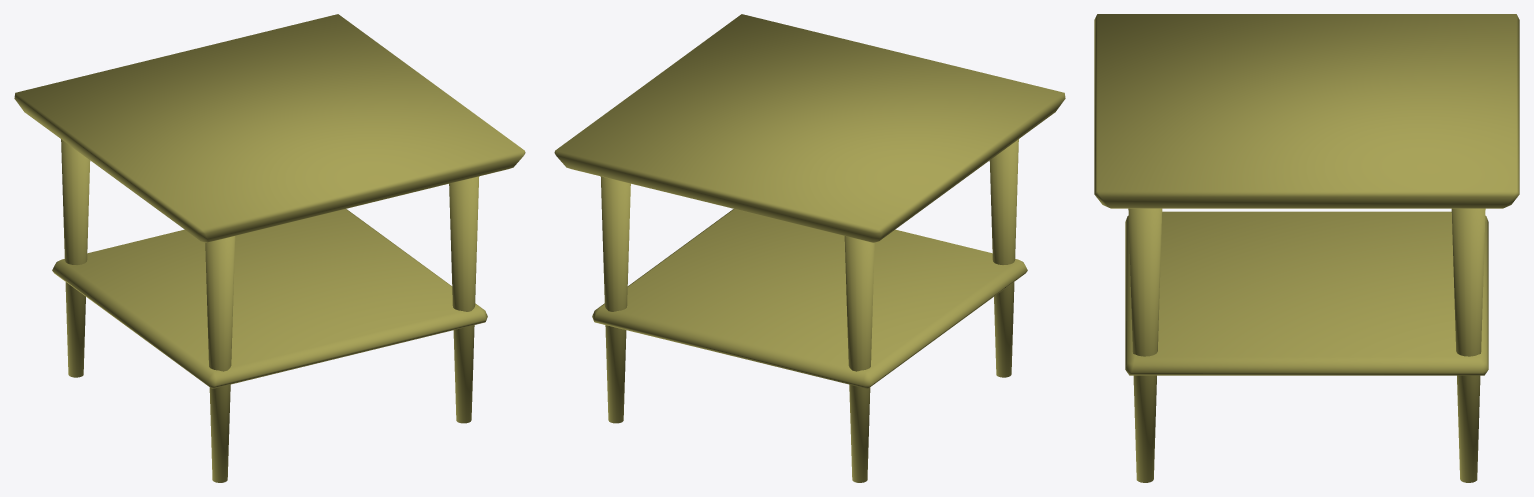
The model's file is stolik2.fbx.
3 renders of one model, left to right at view 1: azimuth 30°, elevation 25°; view 2: azimuth 150°, elevation 25°; view 3: azimuth 270°, elevation 25°, orthographic. The views are drawn at different scales.
Visible parts, largest first — view 1: Plane; view 2: Plane; view 3: Plane.
Boxes of the visible parts, x1,y1,x2,y2 form: Plane: (14, 14, 525, 482); Plane: (554, 14, 1065, 482); Plane: (1094, 14, 1519, 482).
Bounding box in the file's own units: 106 × 85.01 × 106.
